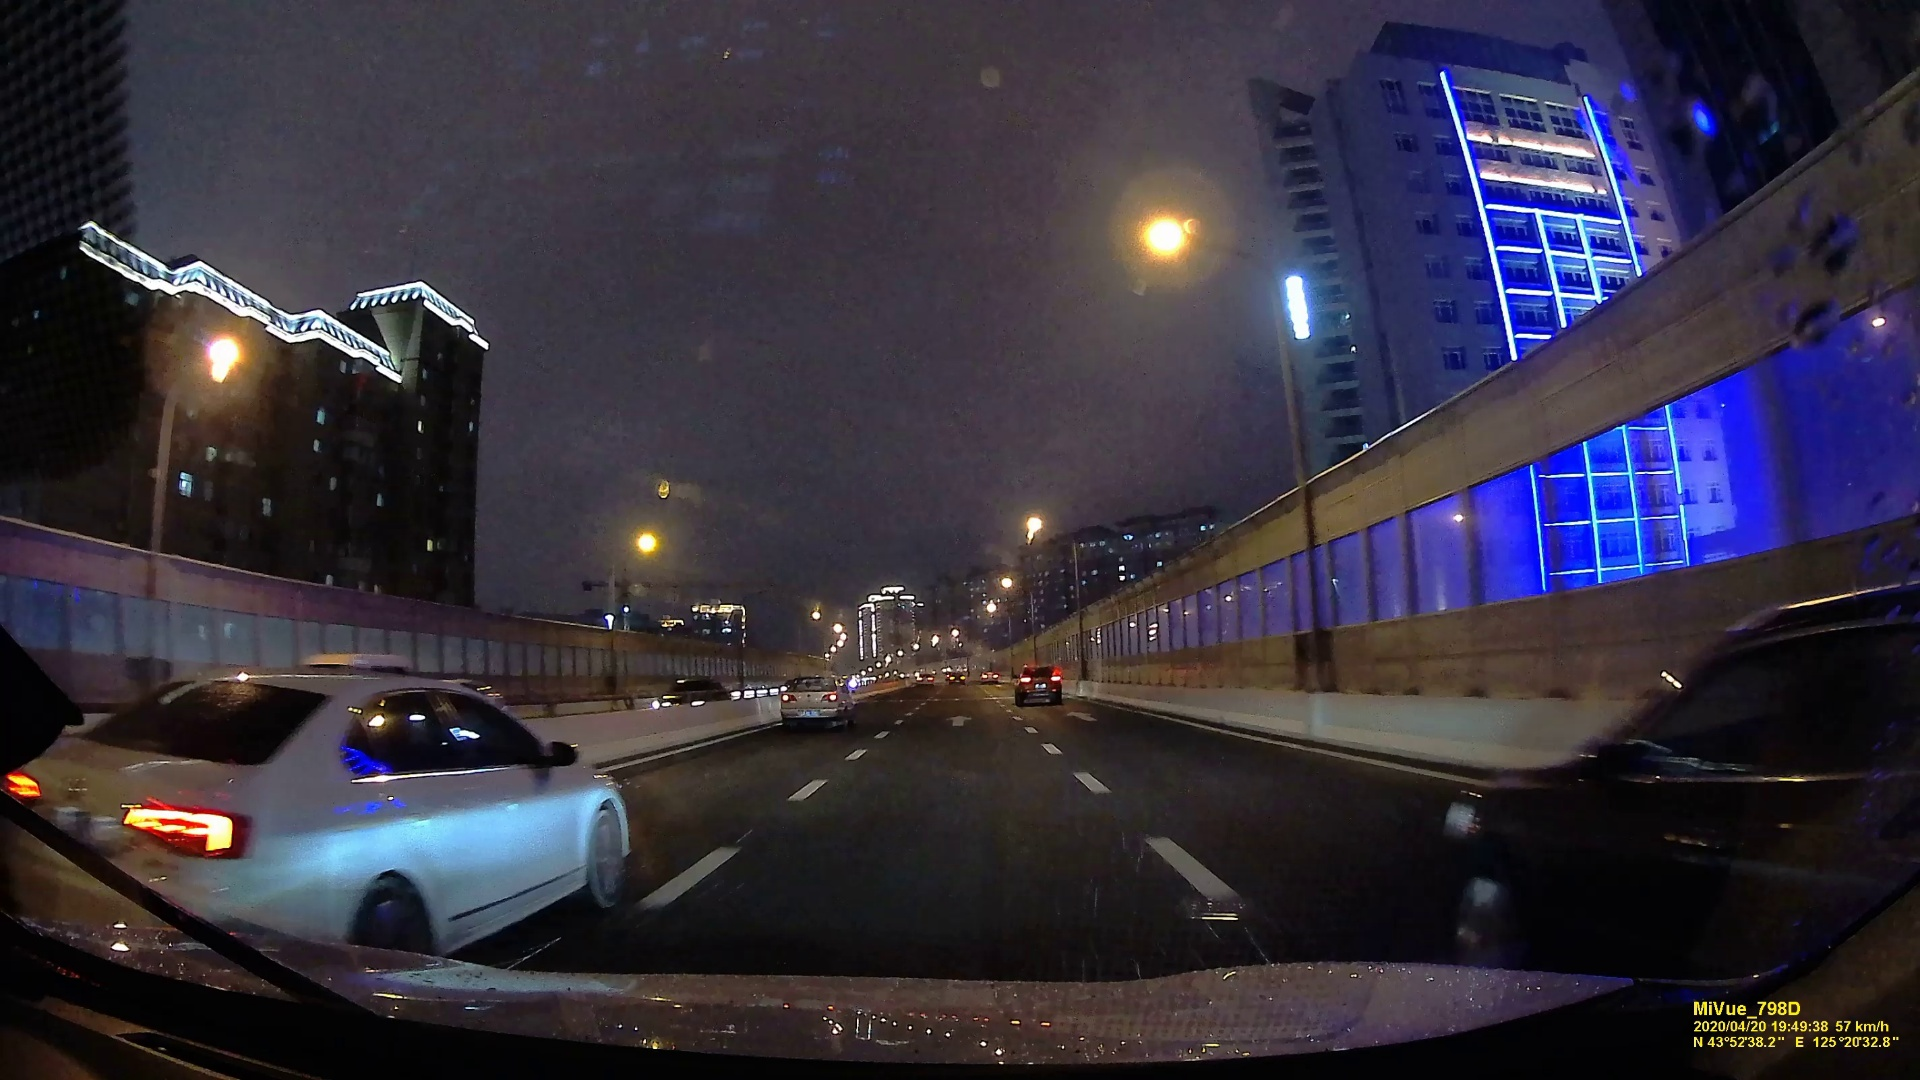vehicle: (1, 669, 636, 972), (1429, 582, 1916, 968), (775, 676, 844, 727), (649, 673, 731, 712), (1014, 665, 1065, 703)
